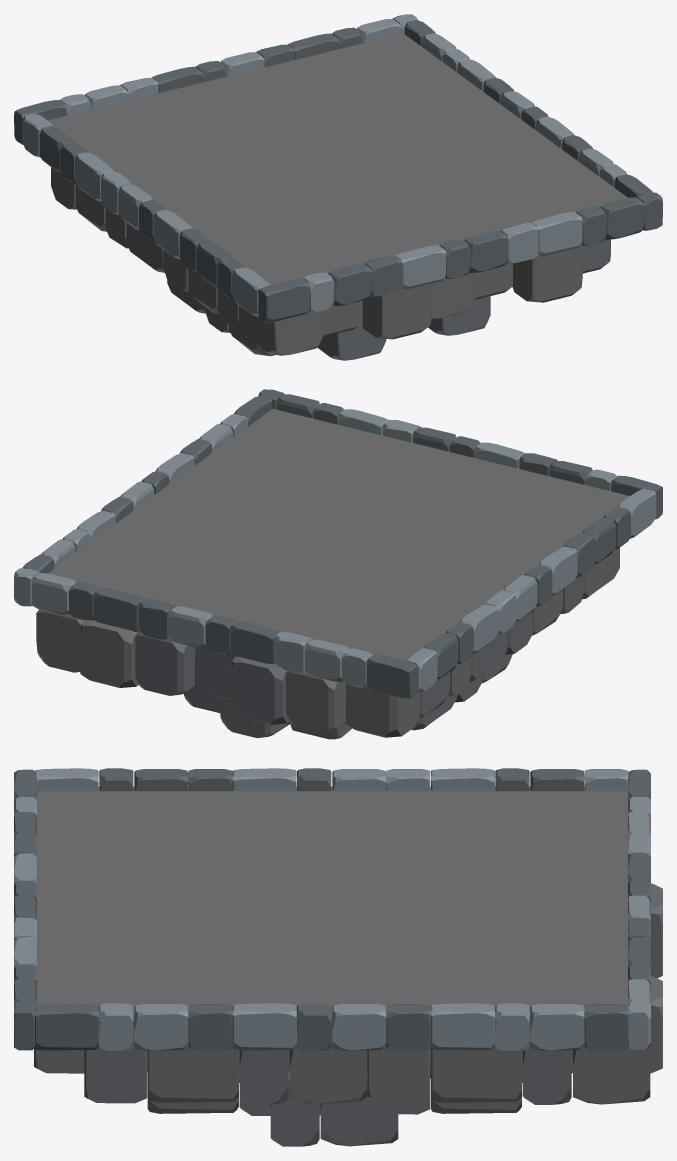
File: plat001.fbx
3 renders of one model, top to bottom at view 1: azimuth 30°, elevation 25°; view 2: azimuth 150°, elevation 25°; view 3: azimuth 270°, elevation 25°, orthographic. The views are drawn at different scales.
Parts seen in each view (by area): view 1: polySurface528, polySurface454; view 2: polySurface528, polySurface454; view 3: polySurface528, polySurface454.
Boxes of the visible parts, box(x1,y1,x2,y2) form: polySurface528: box(14, 14, 662, 323); polySurface454: box(51, 167, 610, 360); polySurface528: box(14, 389, 662, 698); polySurface454: box(36, 547, 619, 739); polySurface528: box(14, 768, 650, 1050); polySurface454: box(34, 883, 662, 1146).
Bounding box in the file's own units: 1424 × 478 × 1597.
